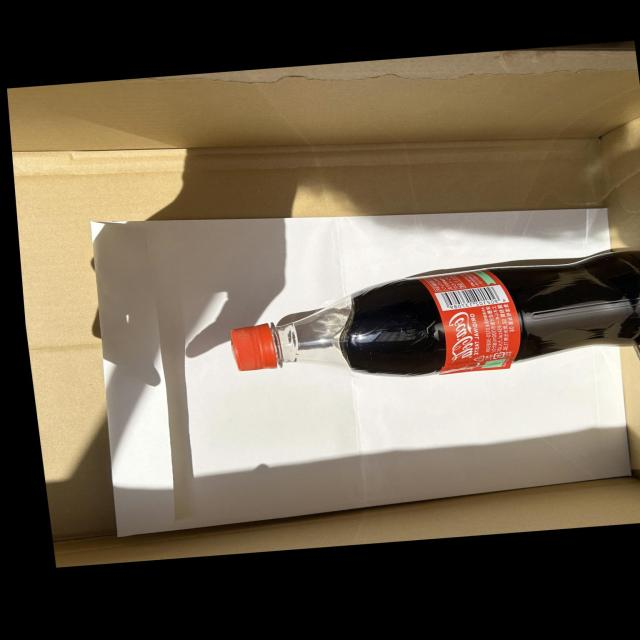high: (231, 250, 640, 378)
